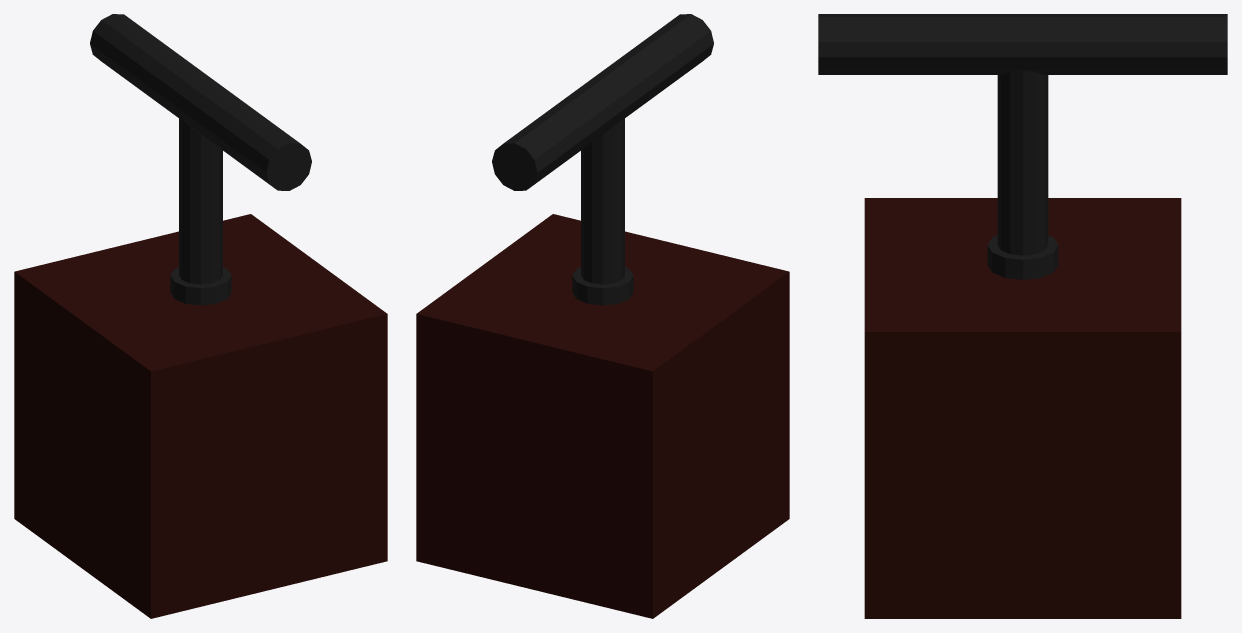
File: spexplopsh.fbx
3 renders of one model, left to right at view 1: azimuth 30°, elevation 25°; view 2: azimuth 150°, elevation 25°; view 3: azimuth 270°, elevation 25°, orthographic. The views are drawn at different scales.
Parts seen in each view (by area): view 1: Cube.002, Cylinder.007, Cylinder.005, Cylinder.004; view 2: Cube.002, Cylinder.007, Cylinder.005, Cylinder.004; view 3: Cube.002, Cylinder.007, Cylinder.005, Cylinder.004.
Part boxes in pixels (left/top/right/bottom): Cube.002: left=14, top=214, right=387, bottom=618; Cylinder.007: left=90, top=14, right=311, bottom=190; Cylinder.005: left=179, top=118, right=222, bottom=284; Cylinder.004: left=170, top=267, right=231, bottom=305; Cube.002: left=416, top=214, right=789, bottom=618; Cylinder.007: left=492, top=14, right=713, bottom=190; Cylinder.005: left=581, top=118, right=624, bottom=284; Cylinder.004: left=572, top=267, right=633, bottom=305; Cube.002: left=864, top=198, right=1181, bottom=618; Cylinder.007: left=818, top=14, right=1227, bottom=74; Cylinder.005: left=997, top=70, right=1048, bottom=255; Cylinder.004: left=987, top=235, right=1058, bottom=279.
Size of the model in its own units: 265 by 495 by 343.
